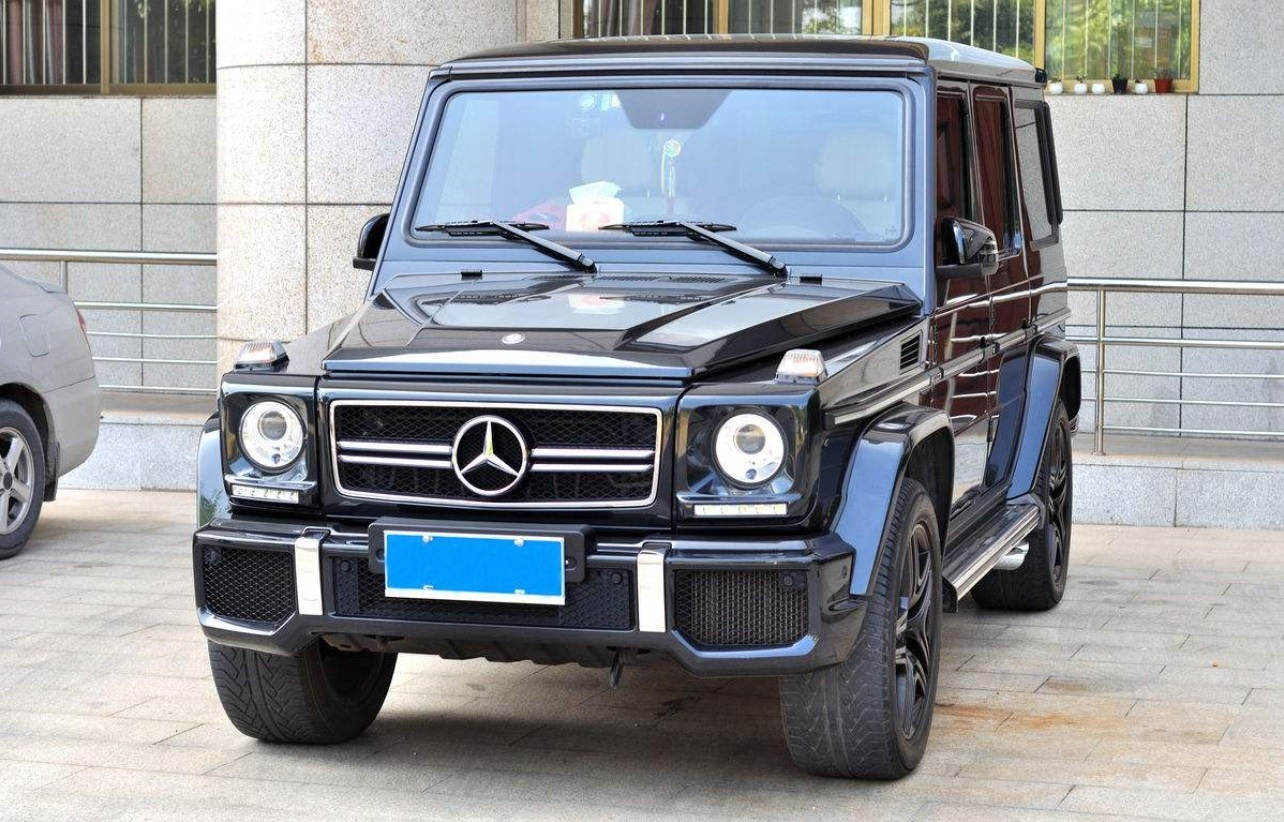jeep: (202, 25, 1083, 783)
